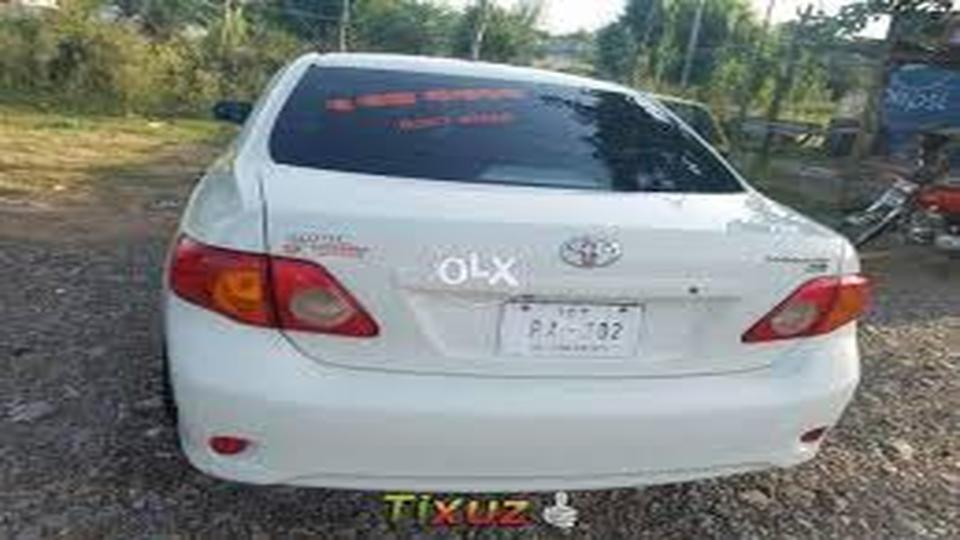NumberPlate: (500, 296, 653, 369)
